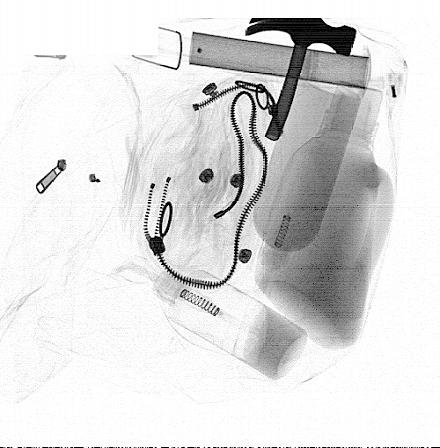Hammer: (245, 17, 357, 141)
